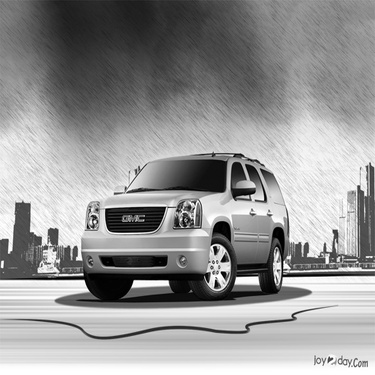car: (67, 127, 300, 315)
